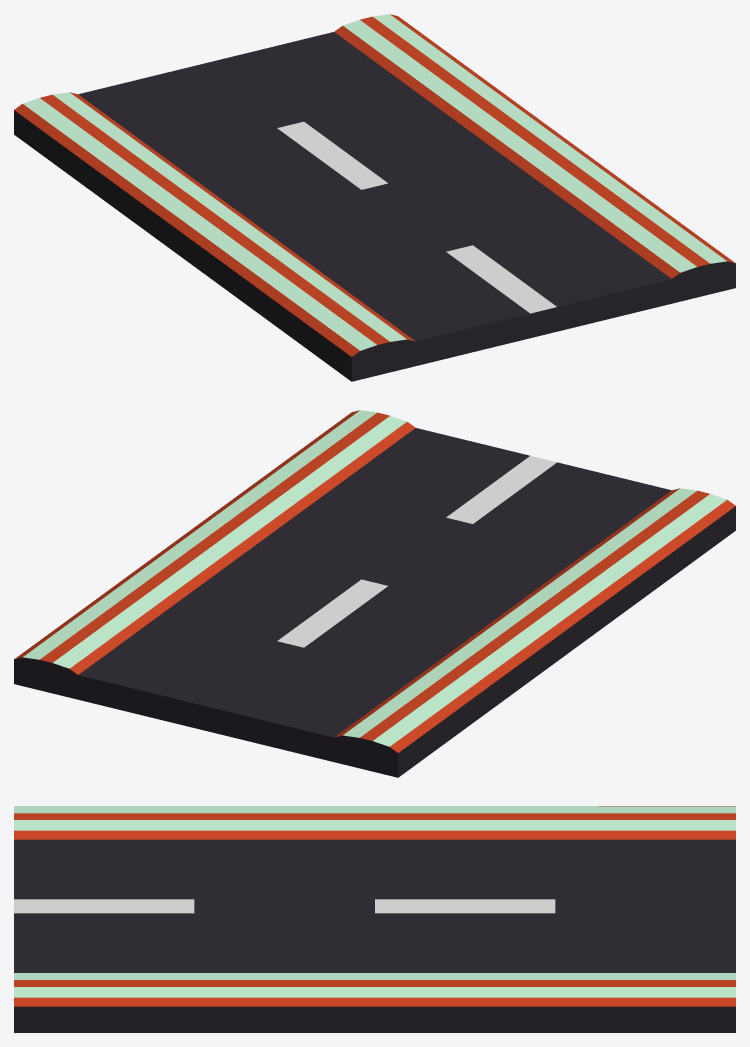
Rendered from track.fbx.
3 views of the same model, one above another, from view 1: azimuth 30°, elevation 25°; view 2: azimuth 150°, elevation 25°; view 3: azimuth 270°, elevation 25° (orthographic). The views are drawn at different scales.
Parts seen in each view (by area): view 1: Cube; view 2: Cube; view 3: Cube.
Part boxes in pixels (x1,y1,x2,y2): Cube: (14,14,735,381); Cube: (14,410,735,777); Cube: (14,806,735,1032).
Bounding box in the file's own units: 675 × 51.32 × 1028.
